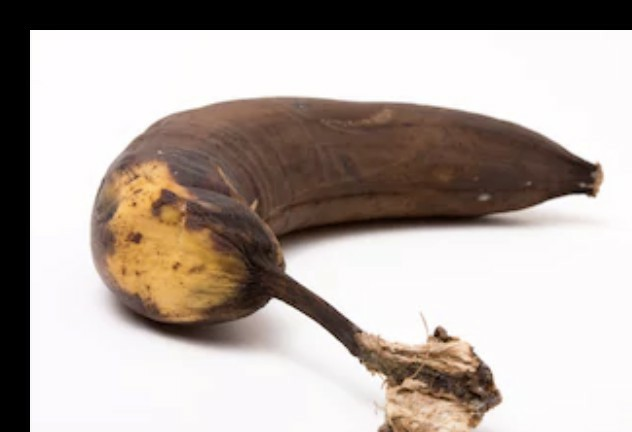rotten_banana: (86, 94, 598, 330)
